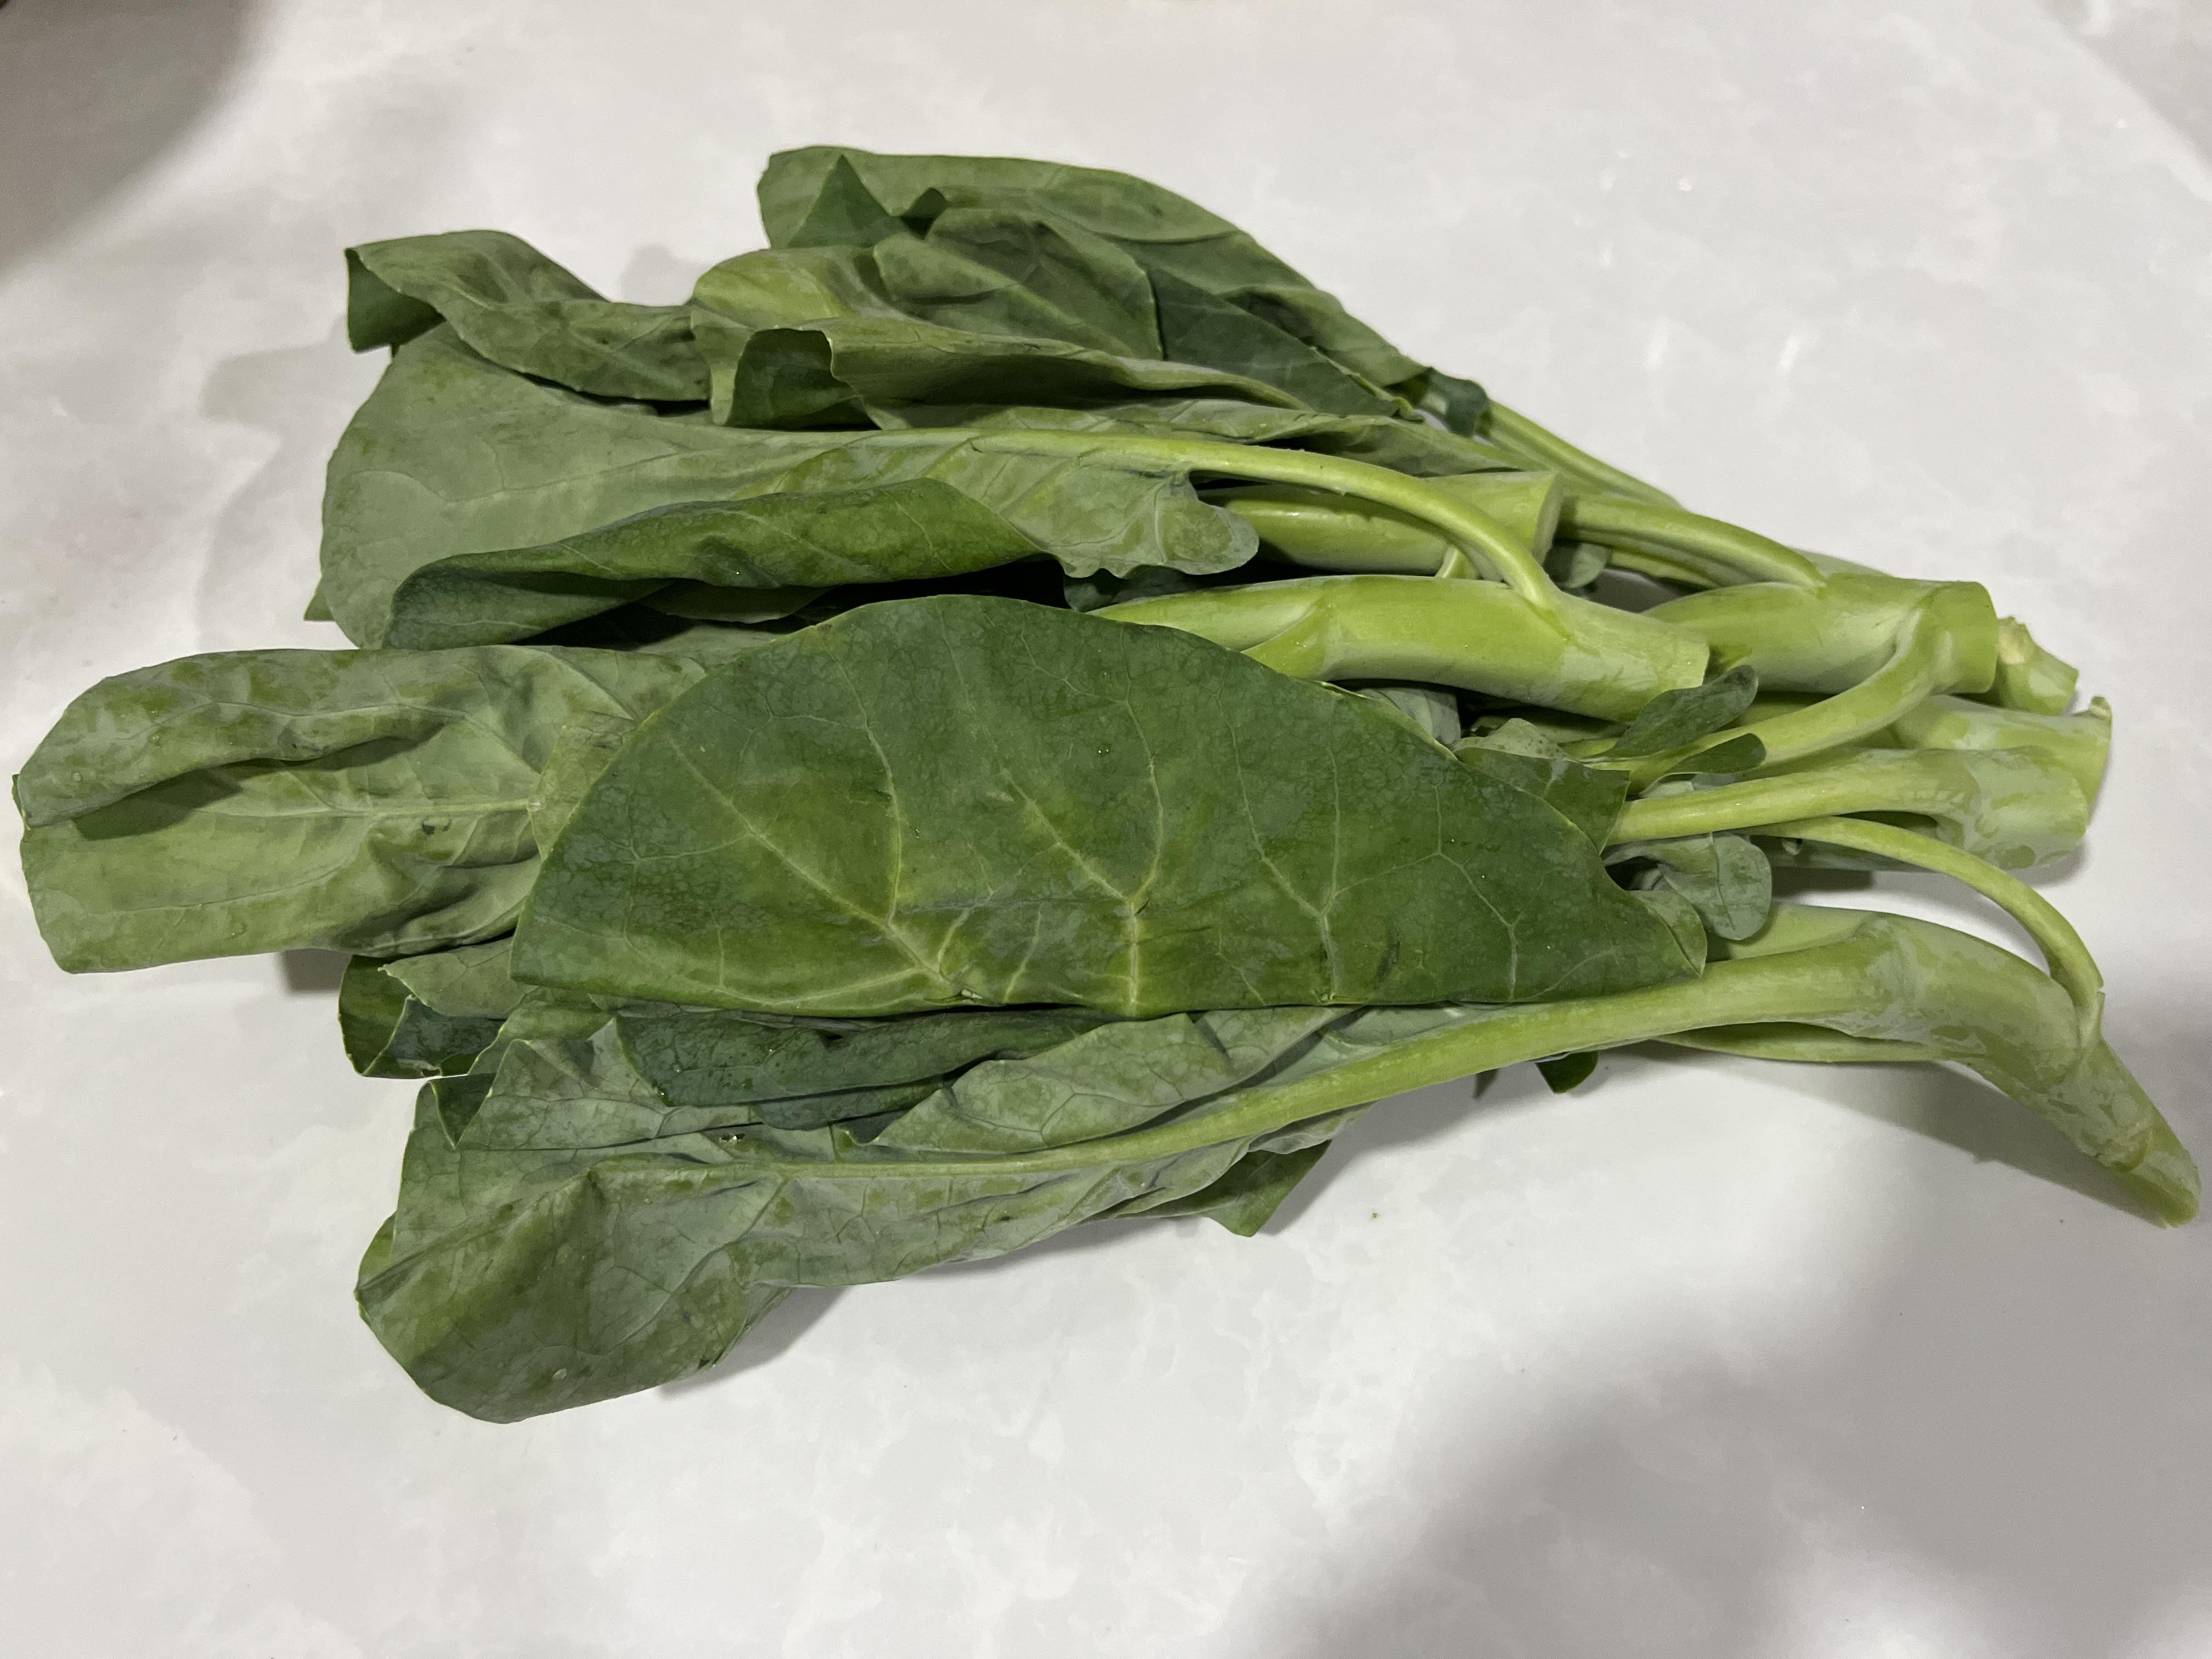Healthy-Pechay: (138, 94, 2128, 1382)
